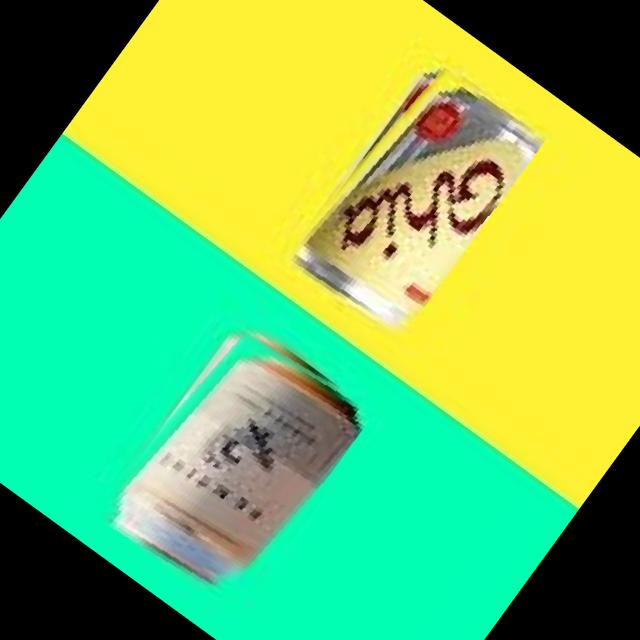Cans: (85, 304, 376, 611), (272, 42, 550, 346)
